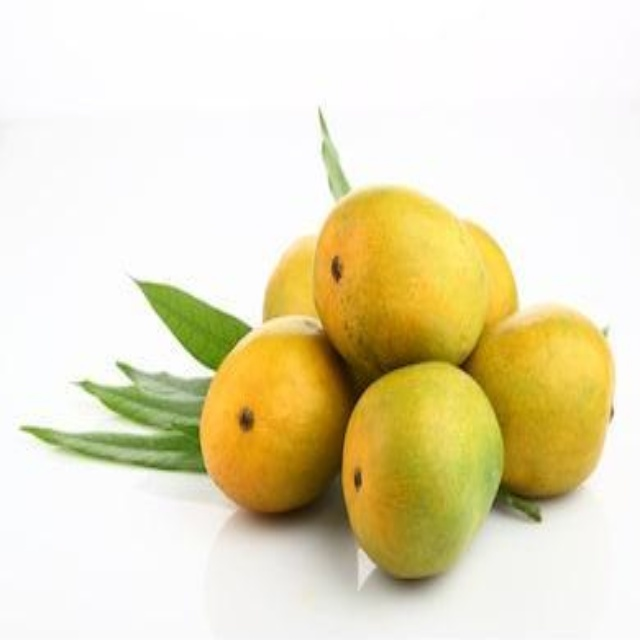mango: (341, 354, 503, 579), (306, 180, 484, 370), (199, 312, 365, 513), (464, 320, 618, 496)
